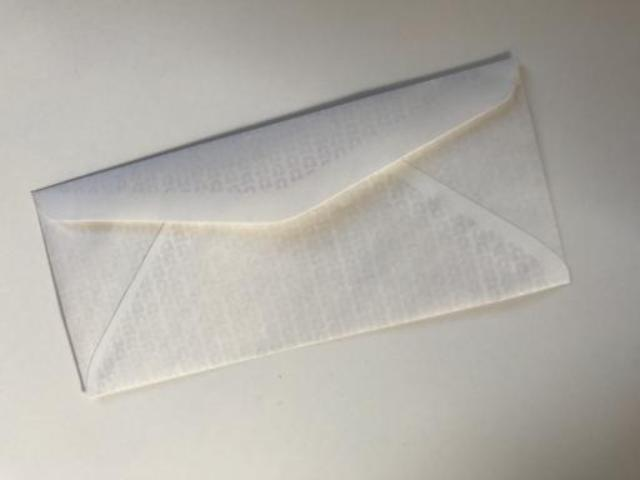cardboard paper: (31, 52, 566, 394)
